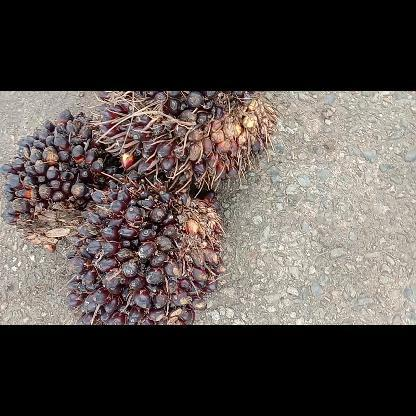TBS mentah: (67, 172, 223, 324), (98, 91, 278, 190), (0, 110, 116, 250)
